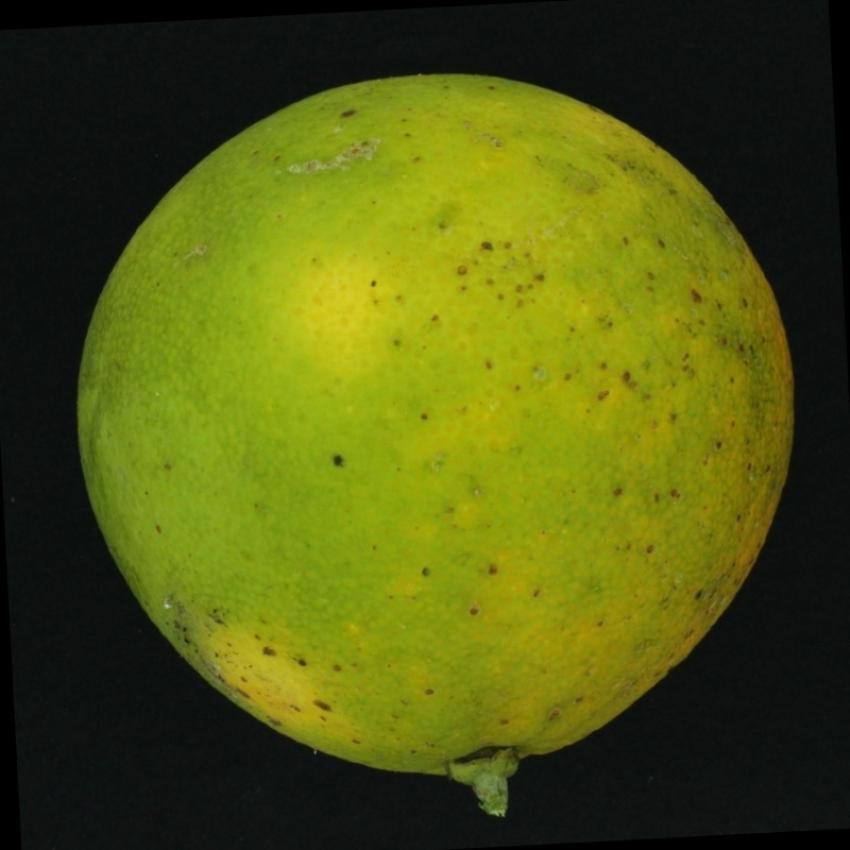Mal estado: (58, 60, 795, 810)
